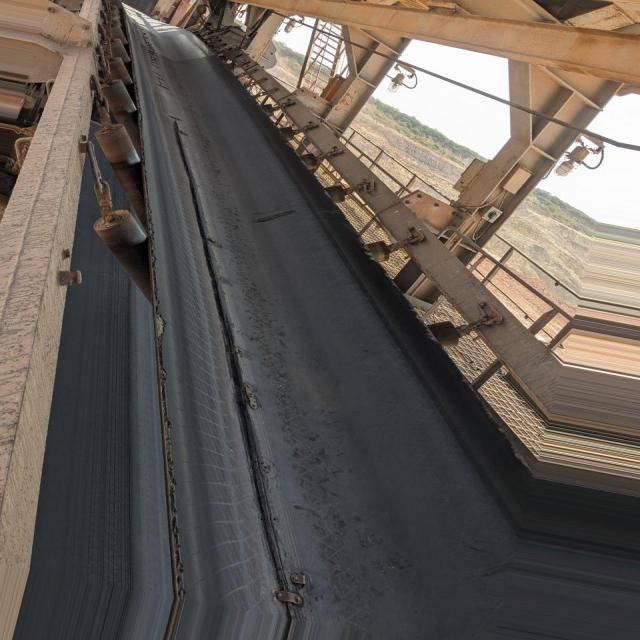Roller: (264, 108, 460, 353), (96, 210, 153, 298), (109, 10, 138, 133), (98, 128, 138, 193)
Tear: (171, 108, 293, 578)
